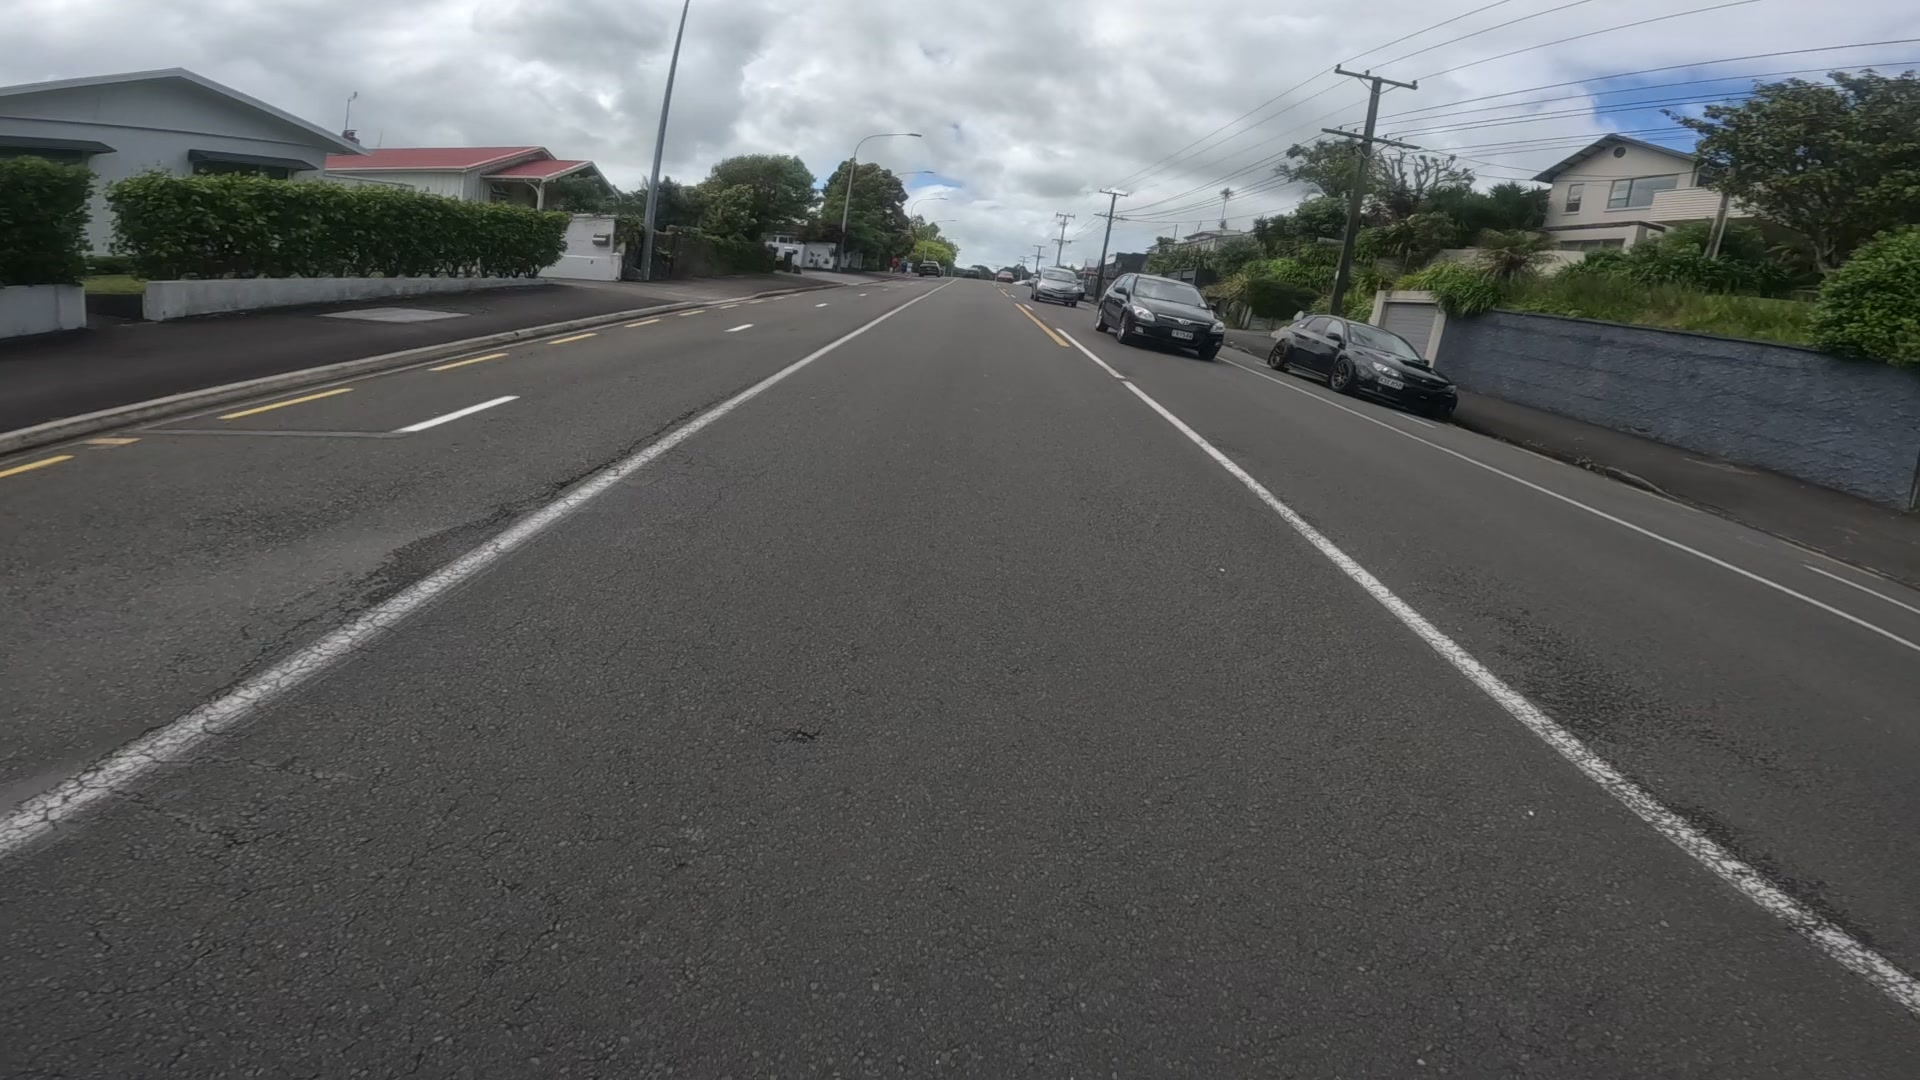Longitudinal_Cracking: (529, 384, 735, 502)
